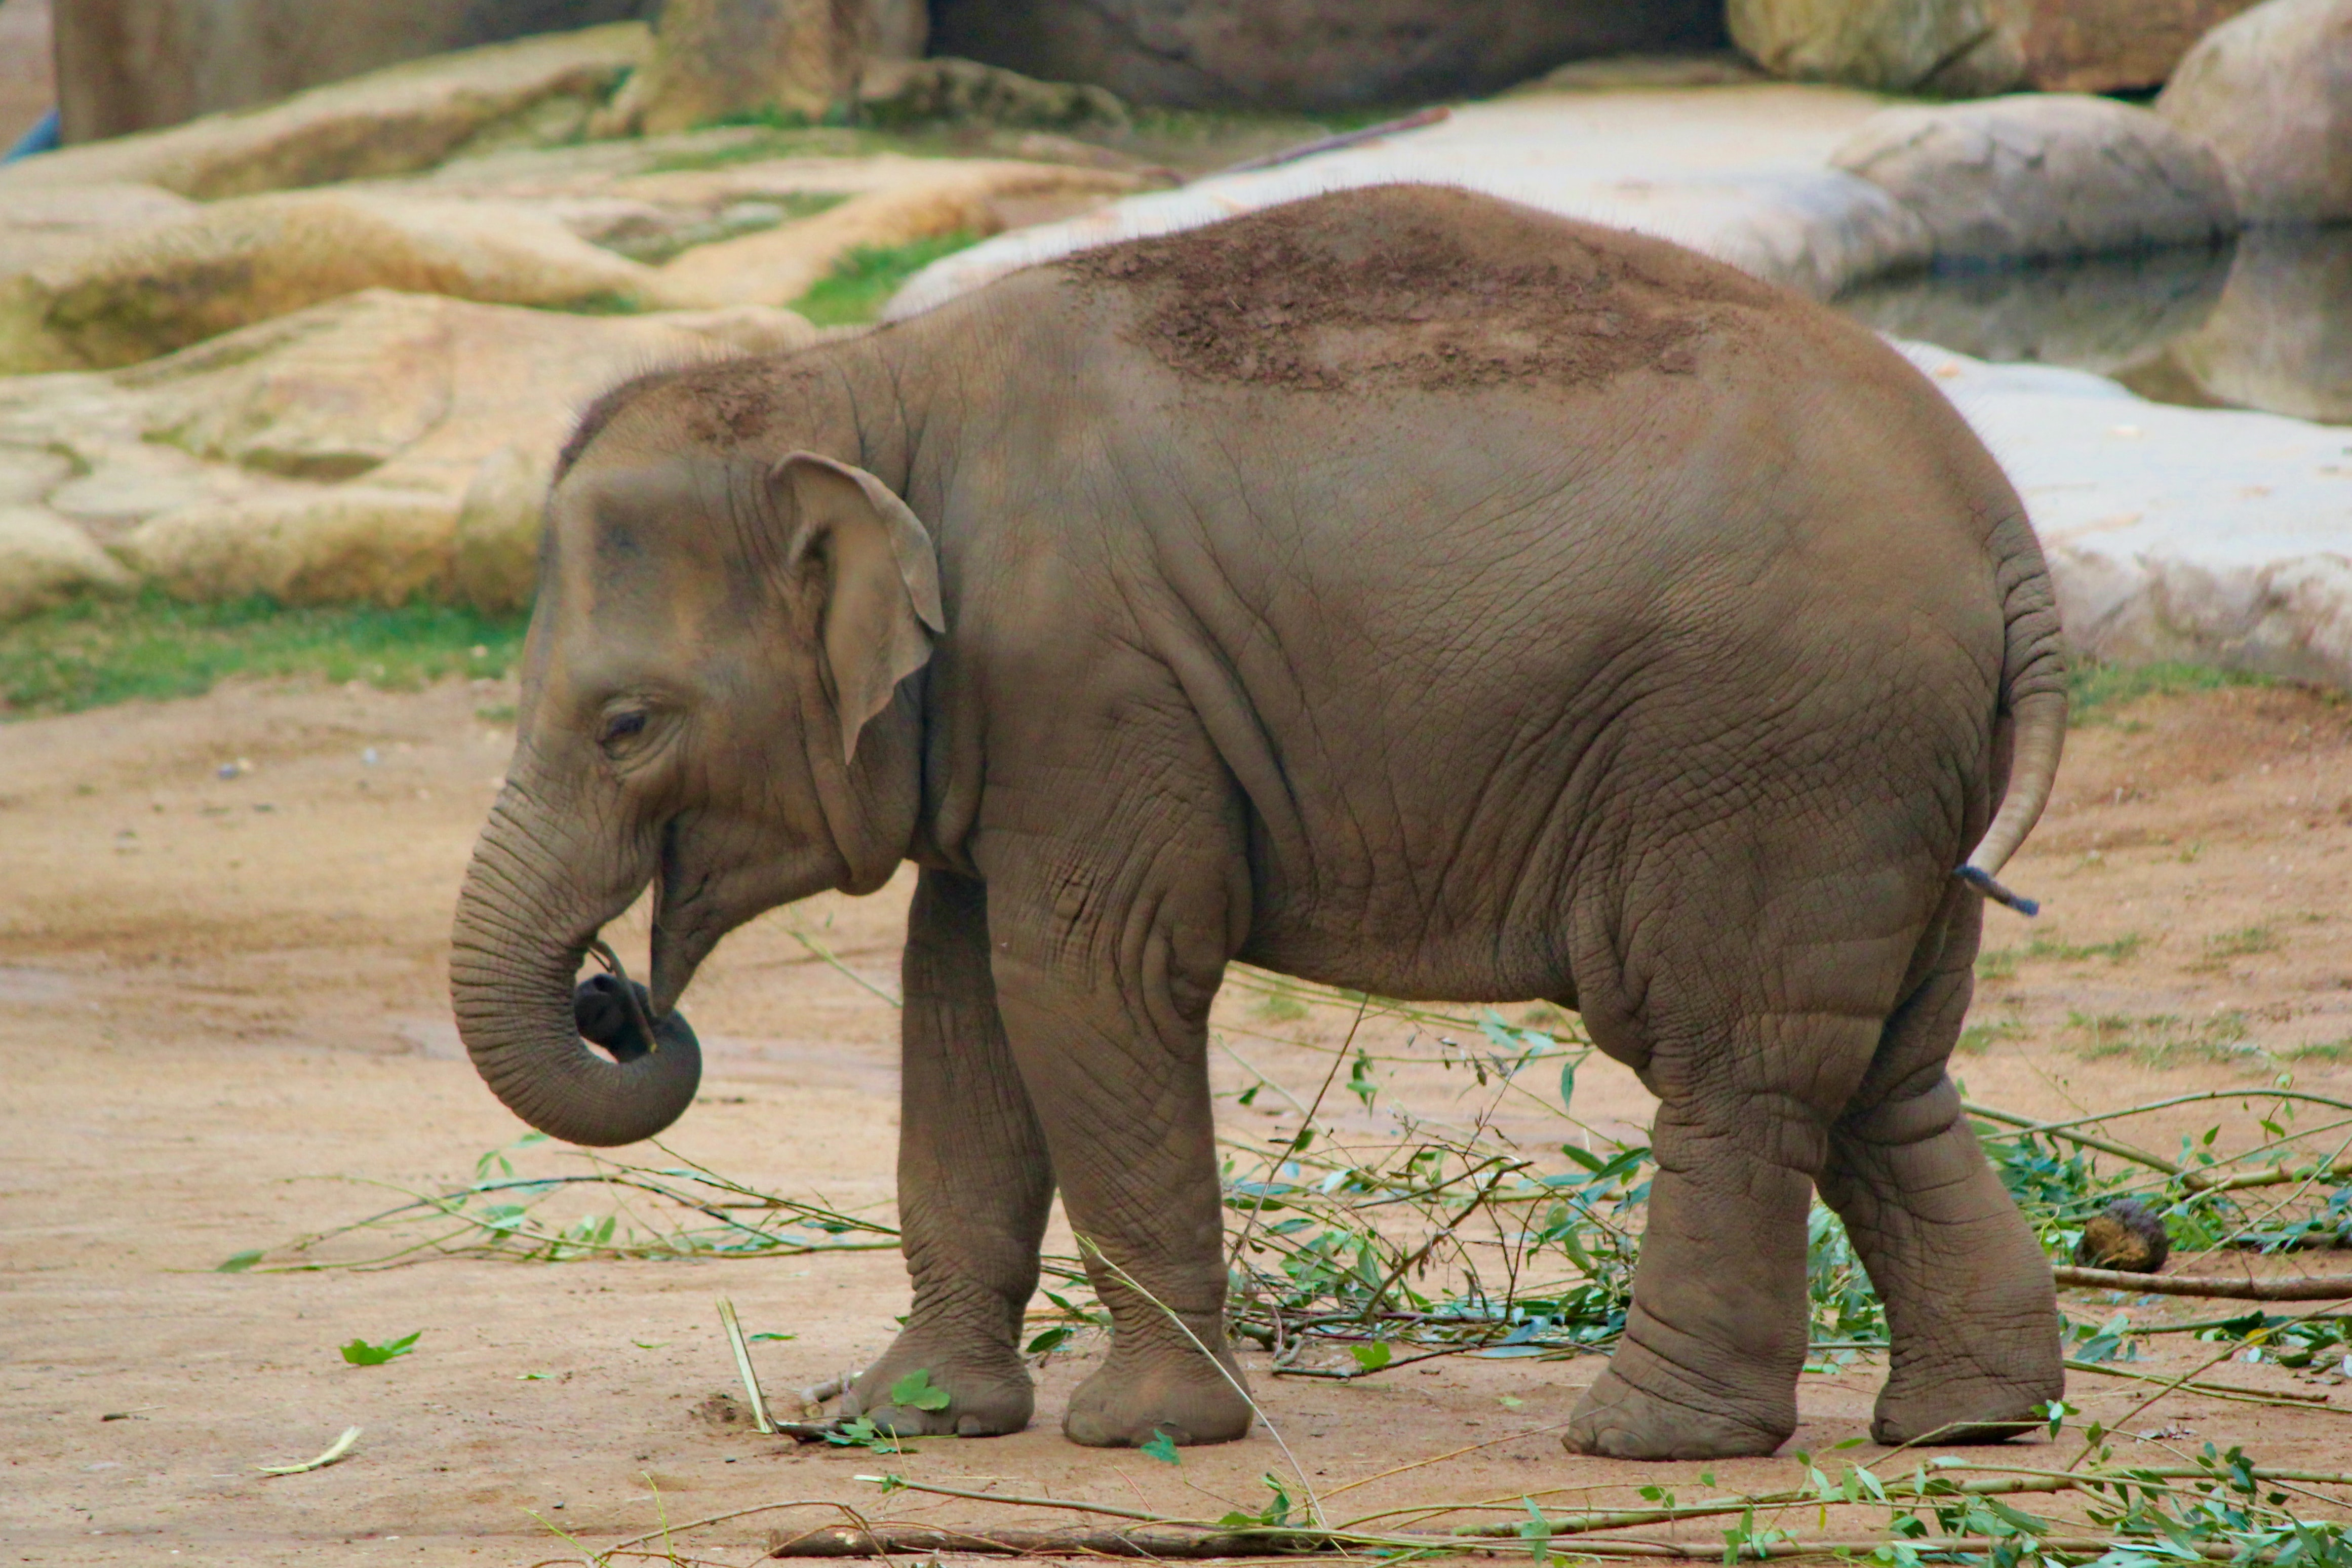Elephant: (425, 180, 2110, 1459)
